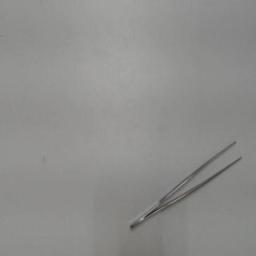Gillies Toothed Dissector: (126, 134, 246, 234)
